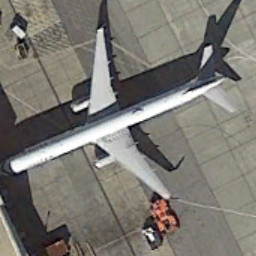Airplane: (1, 9, 244, 220)
